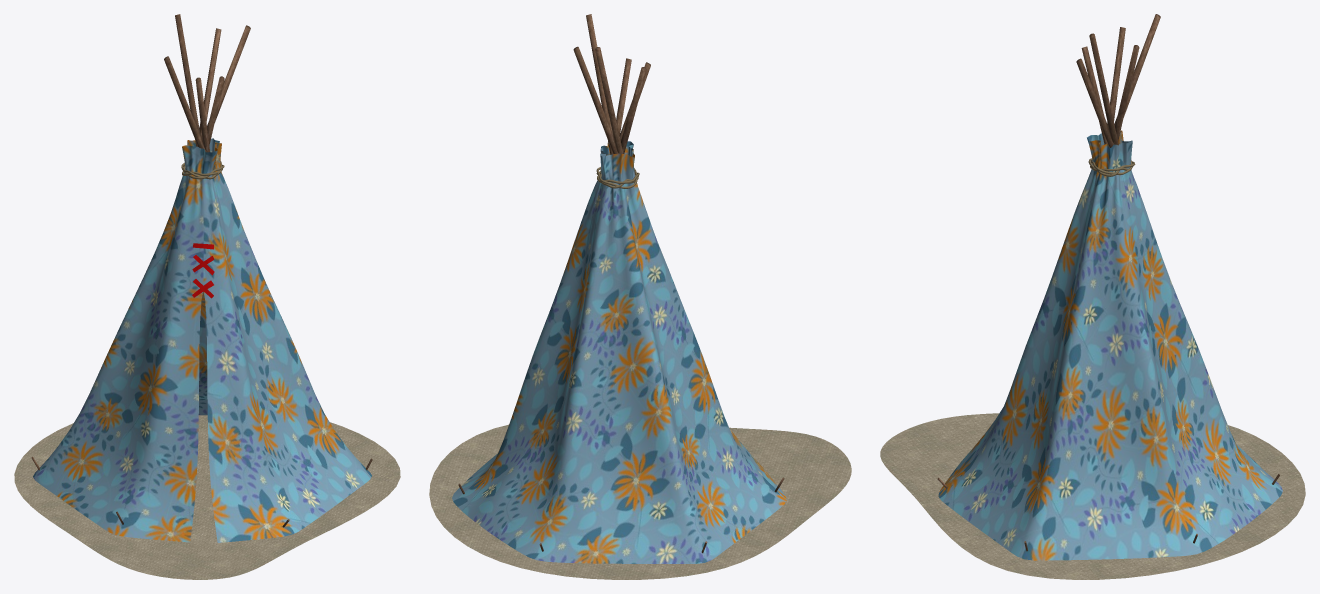
Rendered from camp_tent_tipi.gltf.
3 views of the same model, side by side, from view 1: azimuth 30°, elevation 25°; view 2: azimuth 150°, elevation 25°; view 3: azimuth 270°, elevation 25° (orthographic). The views are drawn at different scales.
Visible parts, largest first — view 1: teepee_model; view 2: teepee_model; view 3: teepee_model.
Boxes of the visible parts, x1,y1,x2,y2 form: teepee_model: (14, 14, 400, 579); teepee_model: (429, 14, 851, 579); teepee_model: (880, 14, 1305, 579).
Bounding box in the file's own units: 3.13 × 4.14 × 3.34.
Materials: 1 (1 with a texture image).
